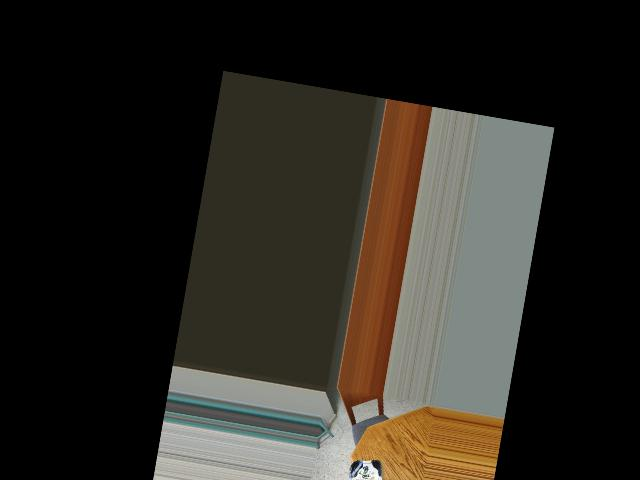cheese: (343, 454, 387, 480)
